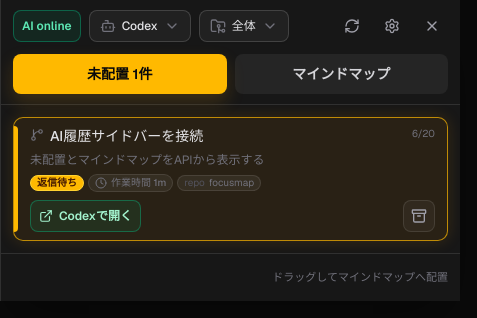
Test: CodexChatImportSidebar › keeps the expanded archive action wide enough for the Japanese label
Click the button named "アーカイブ操作を開く AI履歴サイドバーを接続": point(419, 216) [403,200,435,232]
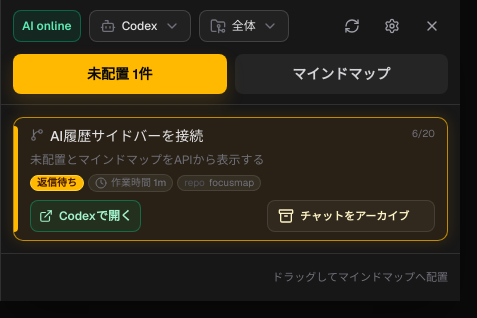
Expected: the text "チャットをアーカイブ" is shown, [300,208,409,224]
